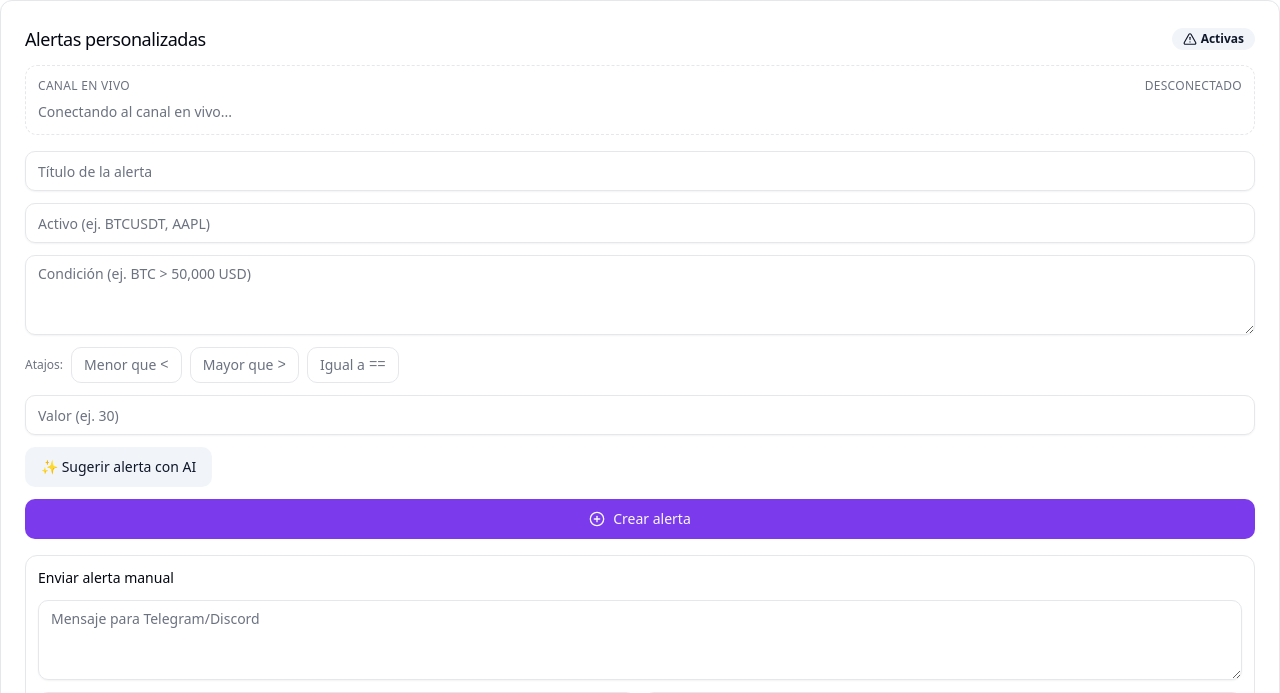
Test: AlertsPanel › keeps custom expressions in the textarea as the source of truth
The width and height of the screenshot is (1280, 693).
Type "Precio cruza 30k" into the text box with placeholder "Condición (ej. BTC > 50,000 USD)" at (640, 295), box 25,255 -> 1255,335
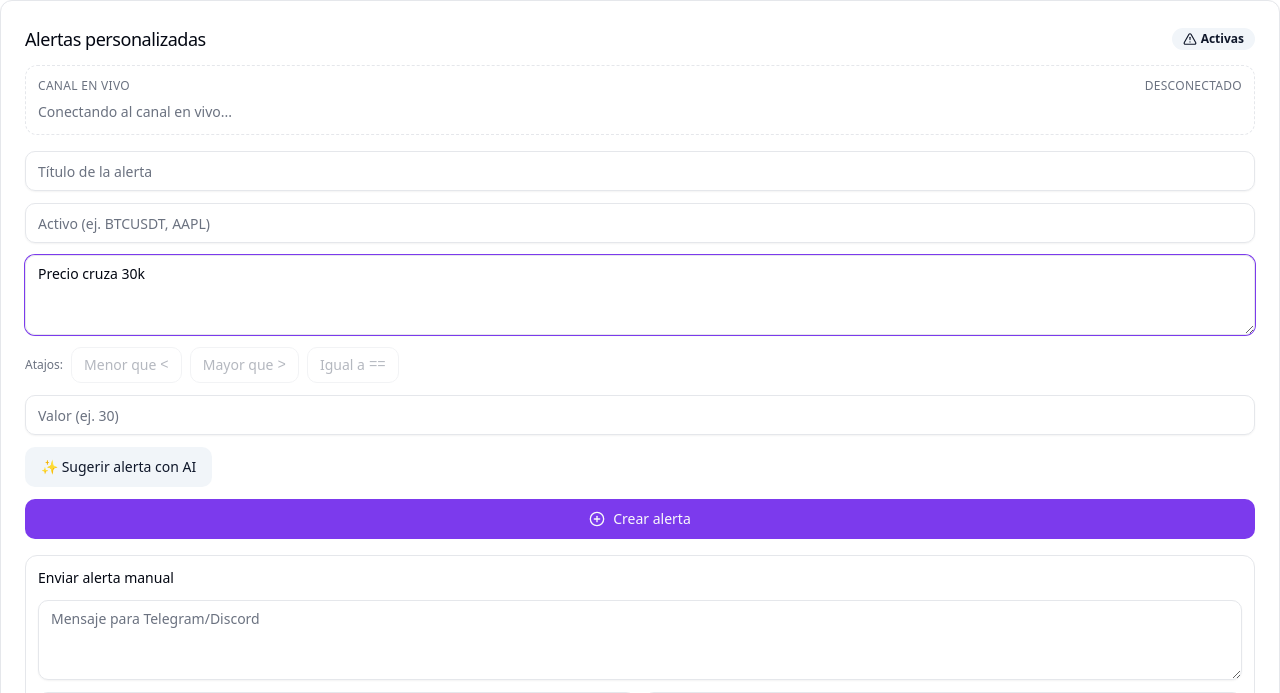
Check: the button "Menor que <" is disabled
Click the button "Menor que <" at (126, 365), box 71,347 -> 182,383
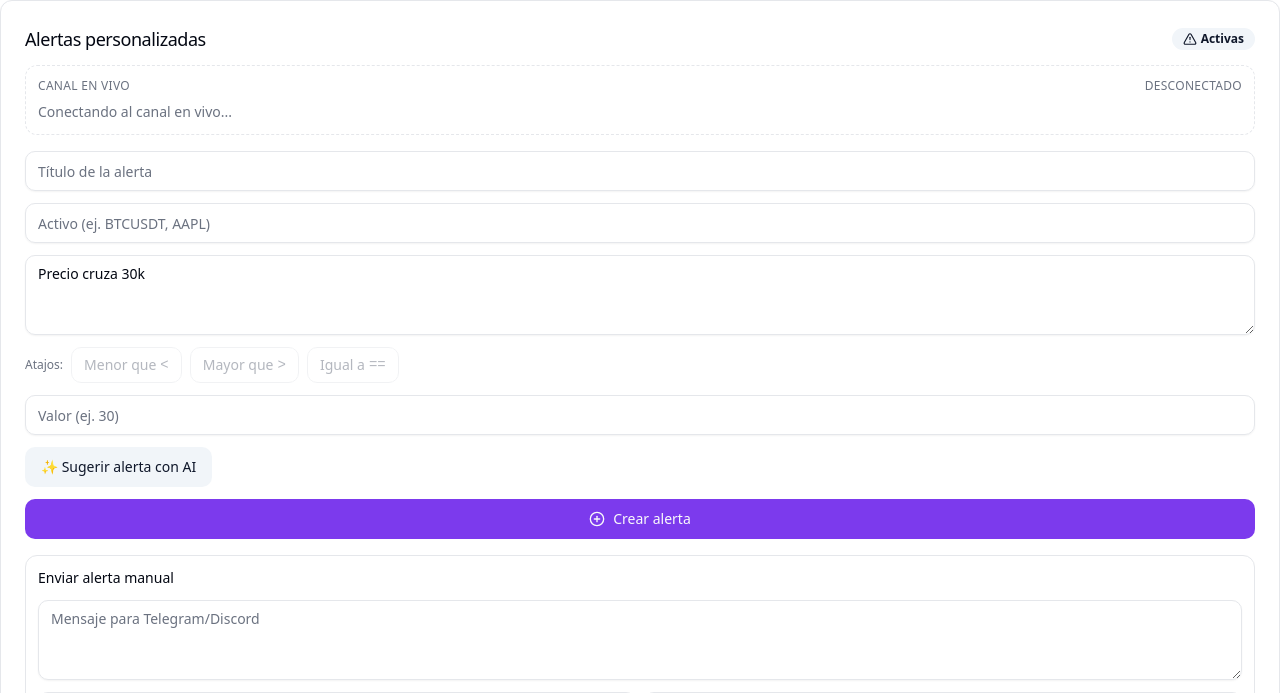
Clear the text box with placeholder "Condición (ej. BTC > 50,000 USD)" at (640, 295), box 25,255 -> 1255,335
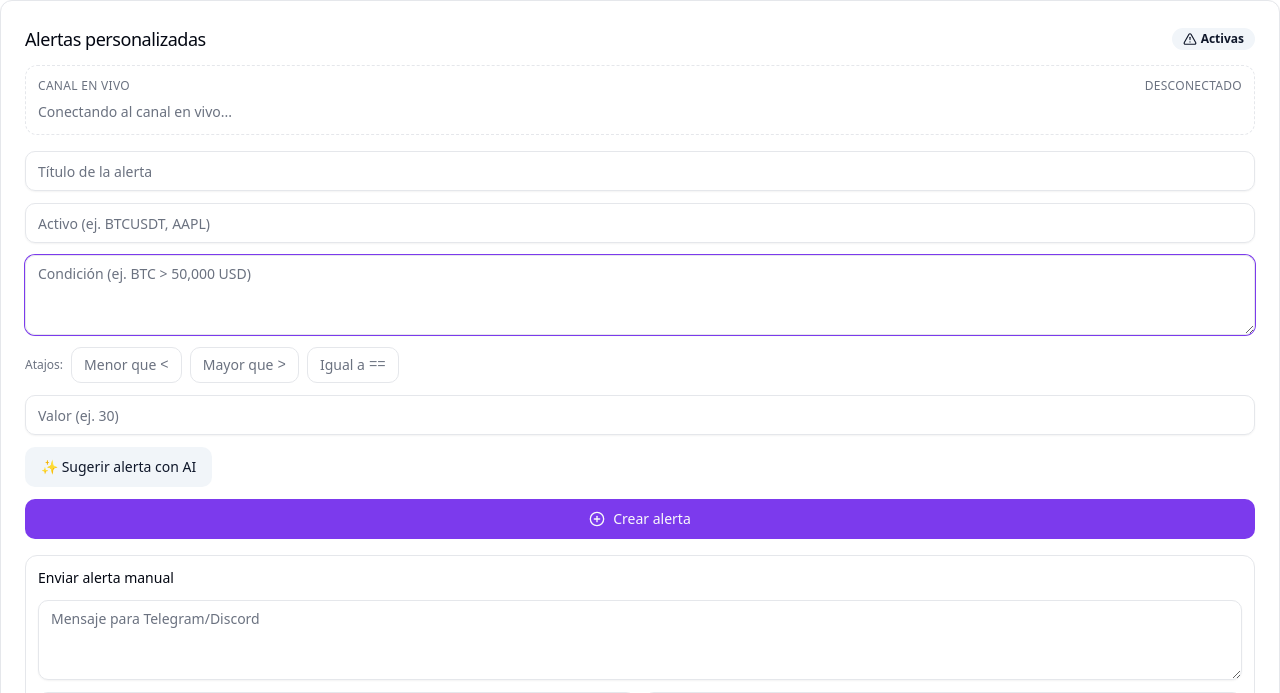
Check: the button "Menor que <" is enabled
Click the button "Menor que <" at (126, 365), box 71,347 -> 182,383
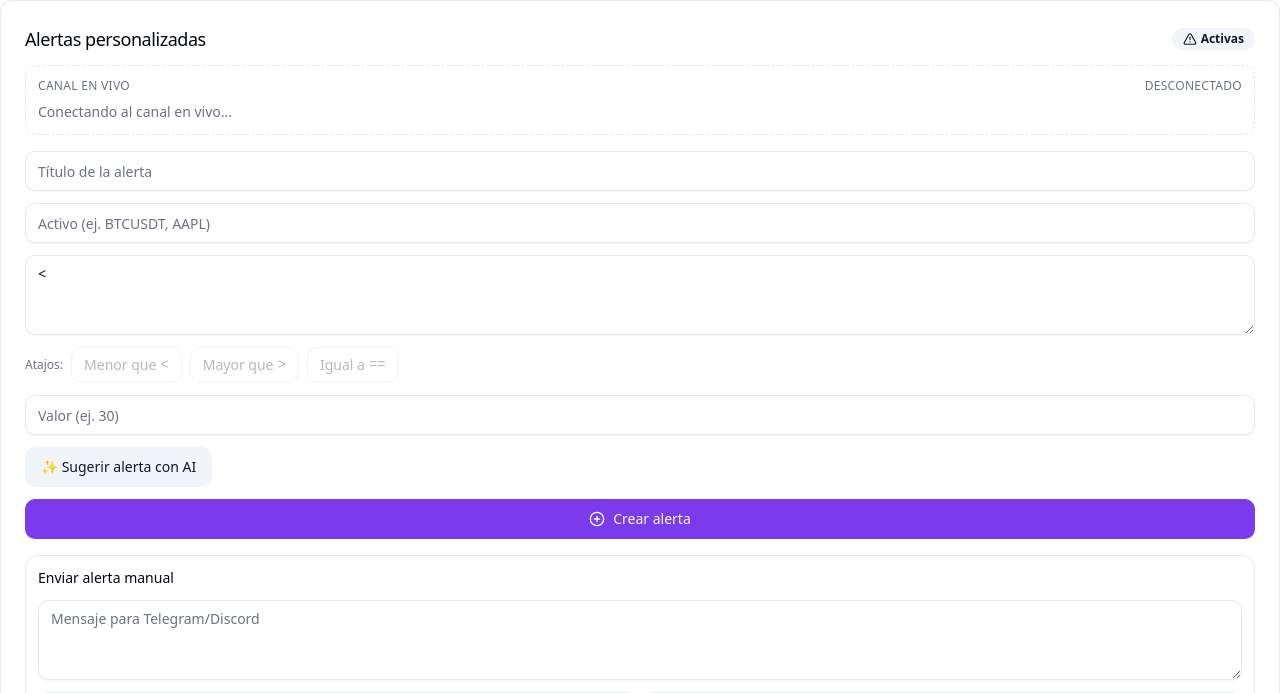
Check: the text box with placeholder "Condición (ej. BTC > 50,000 USD)" holds "<", box 25,255 -> 1255,335
